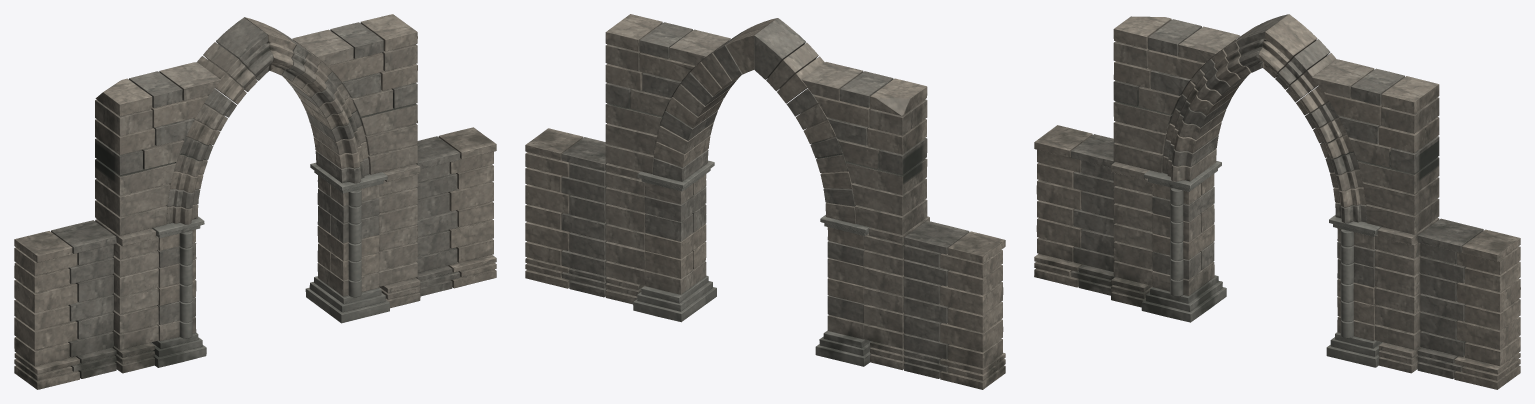
Rendered from composition-parts.glb.
The picture shows the model from 3 angles, left to right: view 1: azimuth 30°, elevation 25°; view 2: azimuth 150°, elevation 25°; view 3: azimuth 330°, elevation 25°; orthographic projection.
Visible parts, largest first — view 1: Portal_LoweredOuterWings; view 2: Portal_LoweredOuterWings; view 3: Portal_LoweredOuterWings.
Boxes of the visible parts, <box> form: Portal_LoweredOuterWings: <box>14,14,496,389</box>; Portal_LoweredOuterWings: <box>525,14,1005,389</box>; Portal_LoweredOuterWings: <box>1034,14,1520,389</box>.
Size of the model in its own units: 9.58 by 5.99 by 1.29.
Materials: 1 (1 with a texture image).
